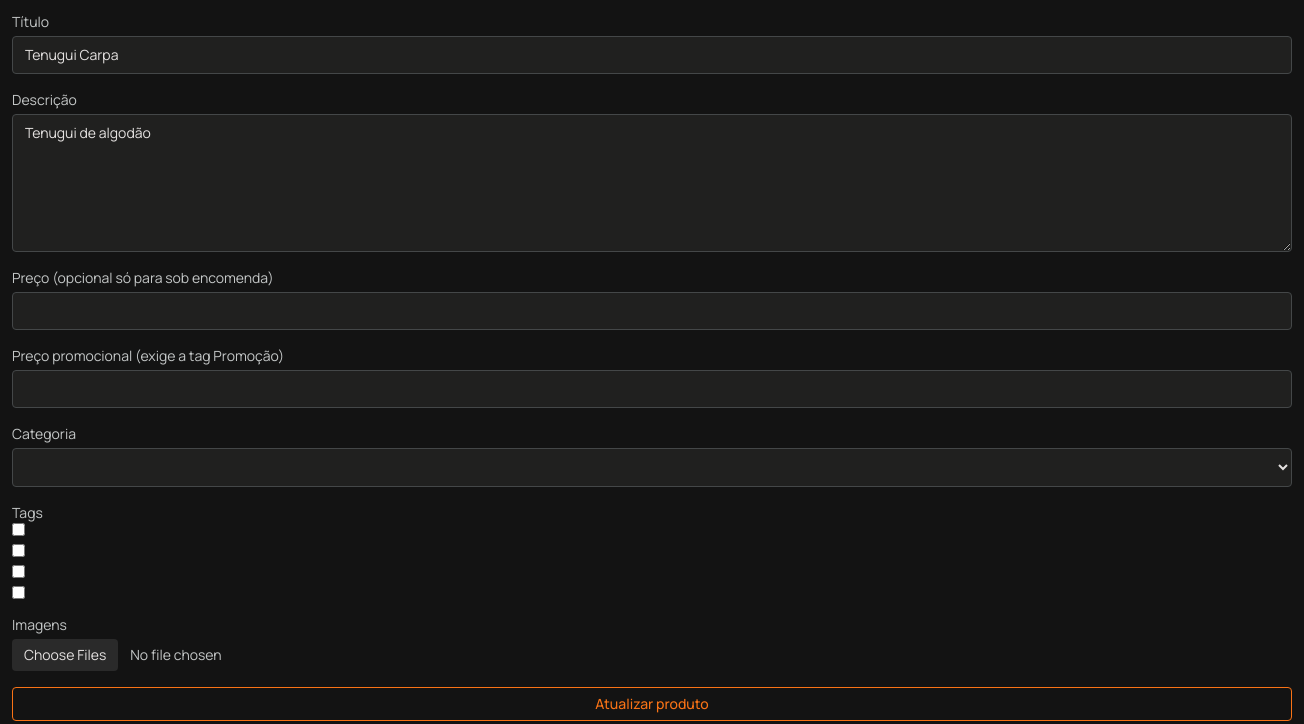
Scenario: ProductForm › exibe a mensagem em pt-BR da API no 400 e mantém o formulário preenchido
Click the button "Atualizar produto": point(652, 704) [12,687,1292,721]
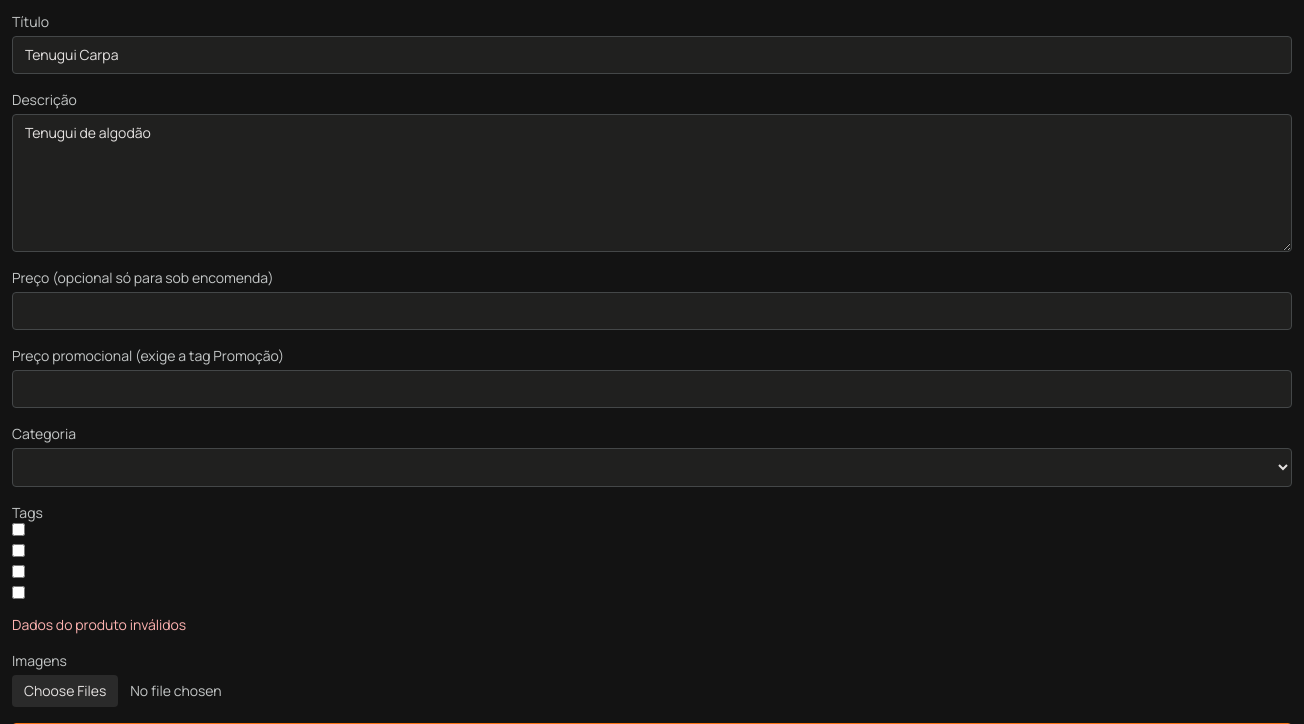
Expected: the field labelled "Título" holds "Tenugui Carpa", [12,36,1292,74]
Now the text "Dados do produto inválidos" is shown, box [12,615,186,634]
